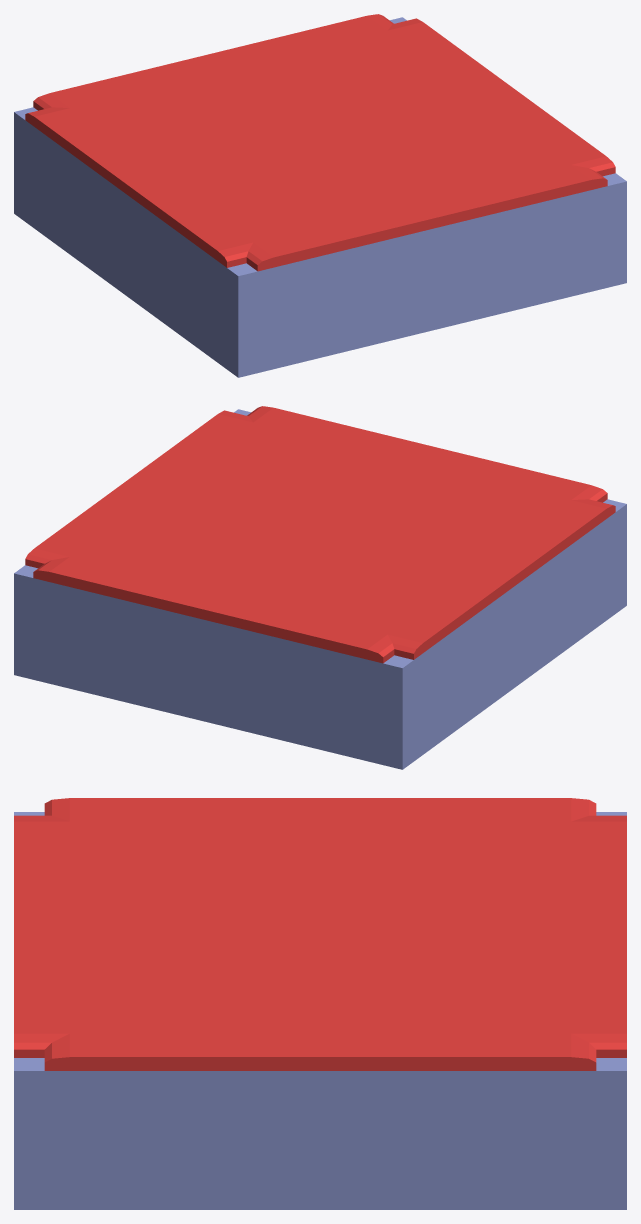
Rendered from tilePathCenter.fbx.
The picture shows the model from 3 angles, top to bottom: view 1: azimuth 30°, elevation 25°; view 2: azimuth 150°, elevation 25°; view 3: azimuth 270°, elevation 25°; orthographic projection. The views are drawn at different scales.
Parts seen in each view (by area): view 1: tilePathCenter; view 2: tilePathCenter; view 3: tilePathCenter.
Boxes of the visible parts, bbox=[...] form: tilePathCenter: bbox=[14, 14, 626, 377]; tilePathCenter: bbox=[14, 406, 626, 769]; tilePathCenter: bbox=[14, 798, 626, 1209].
Bounding box in the file's own units: 400 × 110 × 400.
